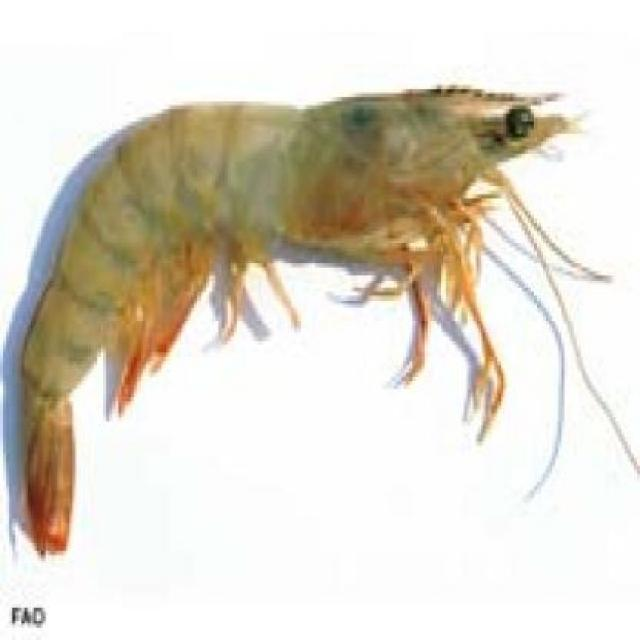shrimp: (20, 73, 587, 557)
